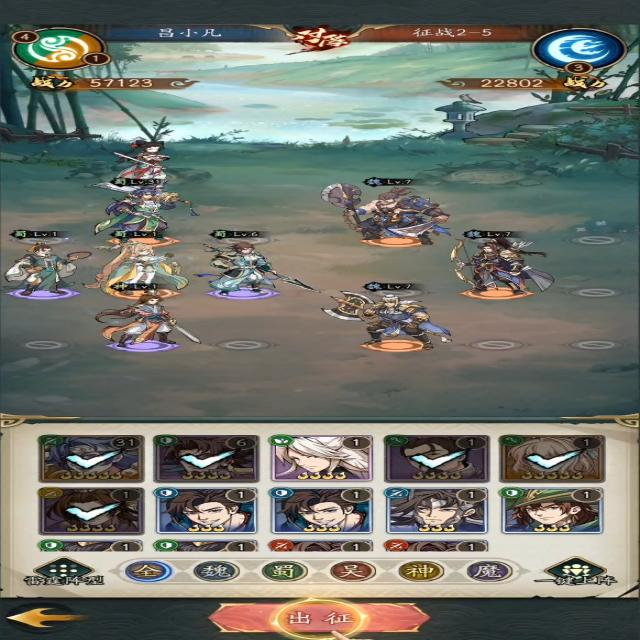hint-guide: (275, 596, 362, 640)
navigation-myHeroes: (30, 485, 148, 536), (381, 432, 493, 484), (495, 432, 607, 484), (150, 432, 264, 483), (495, 485, 609, 536), (265, 431, 376, 483), (33, 434, 146, 484), (382, 485, 492, 536), (151, 485, 261, 536), (265, 486, 376, 536)
operation-back: (5, 604, 88, 632)
operation-camp: (189, 558, 241, 584), (258, 559, 310, 584), (391, 558, 443, 583), (463, 558, 512, 584), (121, 560, 174, 584), (324, 560, 376, 584)
operation-confirm: (210, 602, 431, 634)
operation-deployment: (21, 555, 115, 589)
operation-oneKeyDeployment: (532, 555, 619, 588)
